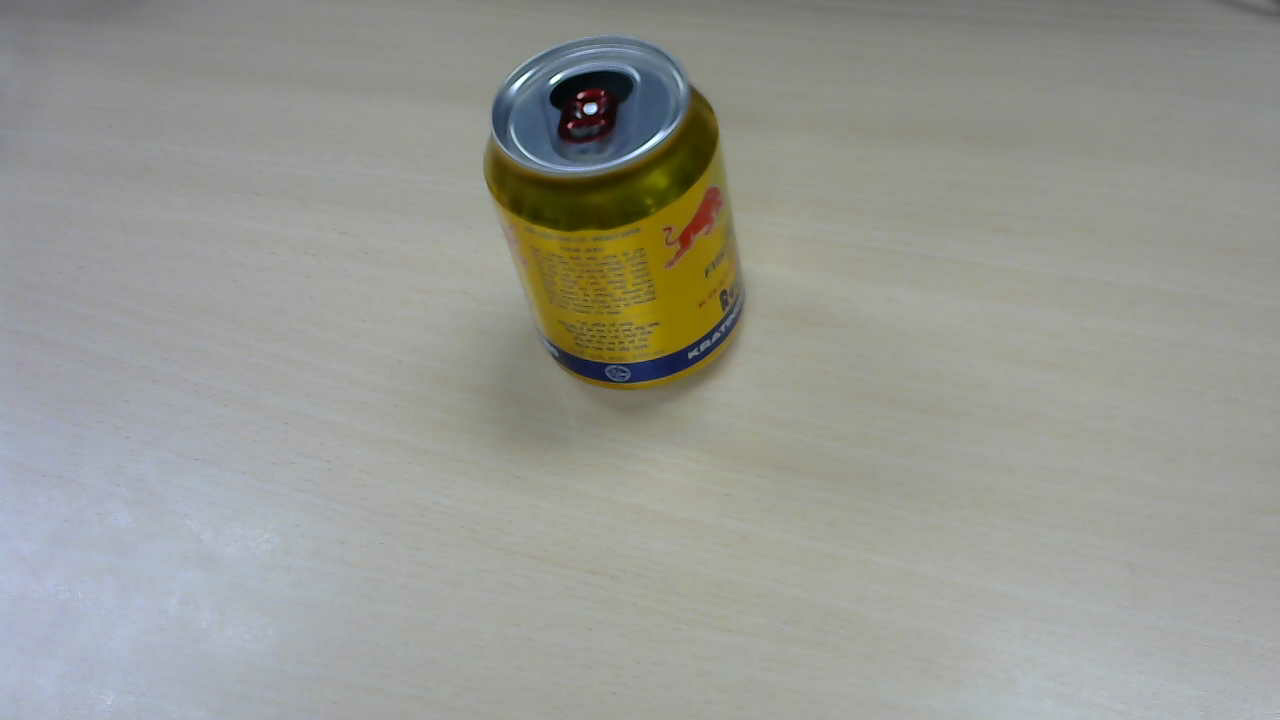Red_Bull: (486, 45, 765, 395)
